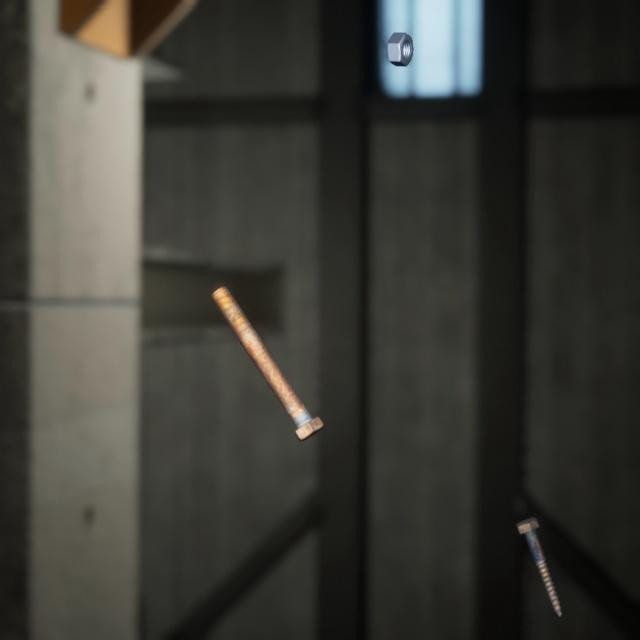bolt: (207, 263, 328, 427), (510, 490, 566, 599)
nut: (382, 19, 417, 62)
